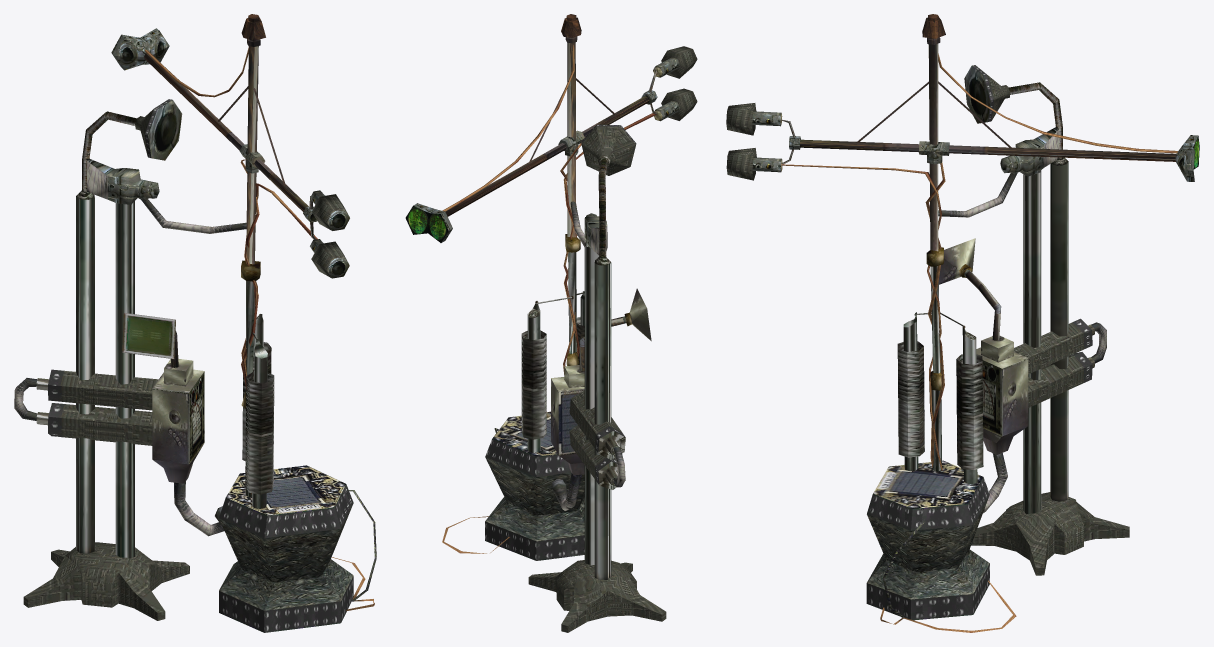
Rendered from fz_device1.fbx.
3 views of the same model, side by side, from view 1: azimuth 30°, elevation 25°; view 2: azimuth 150°, elevation 25°; view 3: azimuth 270°, elevation 25° (orthographic). The views are drawn at different scales.
Parts seen in each view (by area): view 1: mesh_0; view 2: mesh_0; view 3: mesh_0.
Part boxes in pixels (box(x1,y1,x2,y2)): mesh_0: box(14, 14, 376, 632); mesh_0: box(405, 14, 697, 632); mesh_0: box(726, 14, 1199, 632).
Bounding box in the file's own units: 161 × 319 × 242.
1 material, 1 textured.
